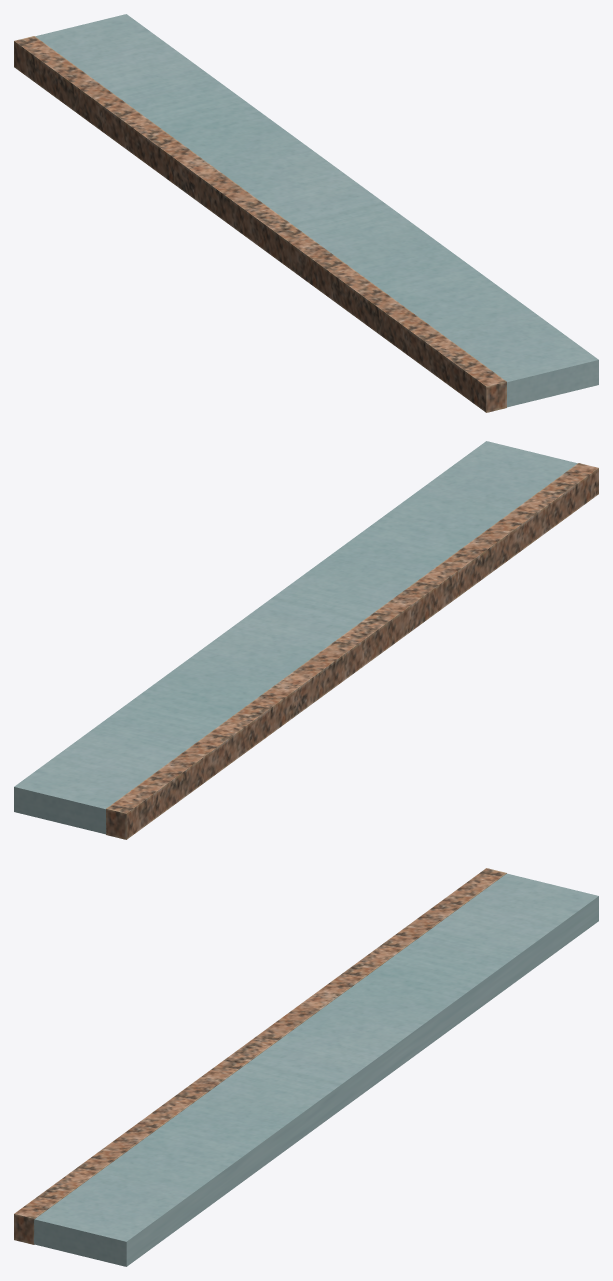
Rendered from set_base_b_01_half.fbx.
3 renders of one model, top to bottom at view 1: azimuth 30°, elevation 25°; view 2: azimuth 150°, elevation 25°; view 3: azimuth 330°, elevation 25°, orthographic.
Parts seen in each view (by area): view 1: set_base_b_01_half; view 2: set_base_b_01_half; view 3: set_base_b_01_half.
Part boxes in pixels (<box>): set_base_b_01_half: <box>14,14,598,412</box>; set_base_b_01_half: <box>14,441,598,839</box>; set_base_b_01_half: <box>14,868,598,1266</box>.
Size of the model in its own units: 55 by 12.25 by 400.
